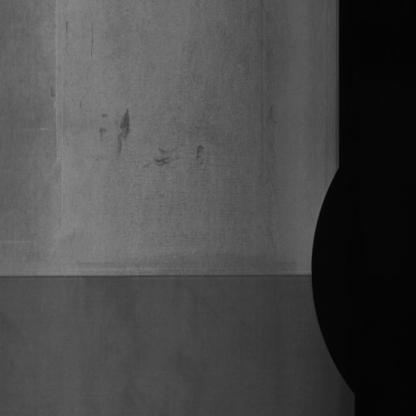welding_line: (1, 262, 321, 294)
